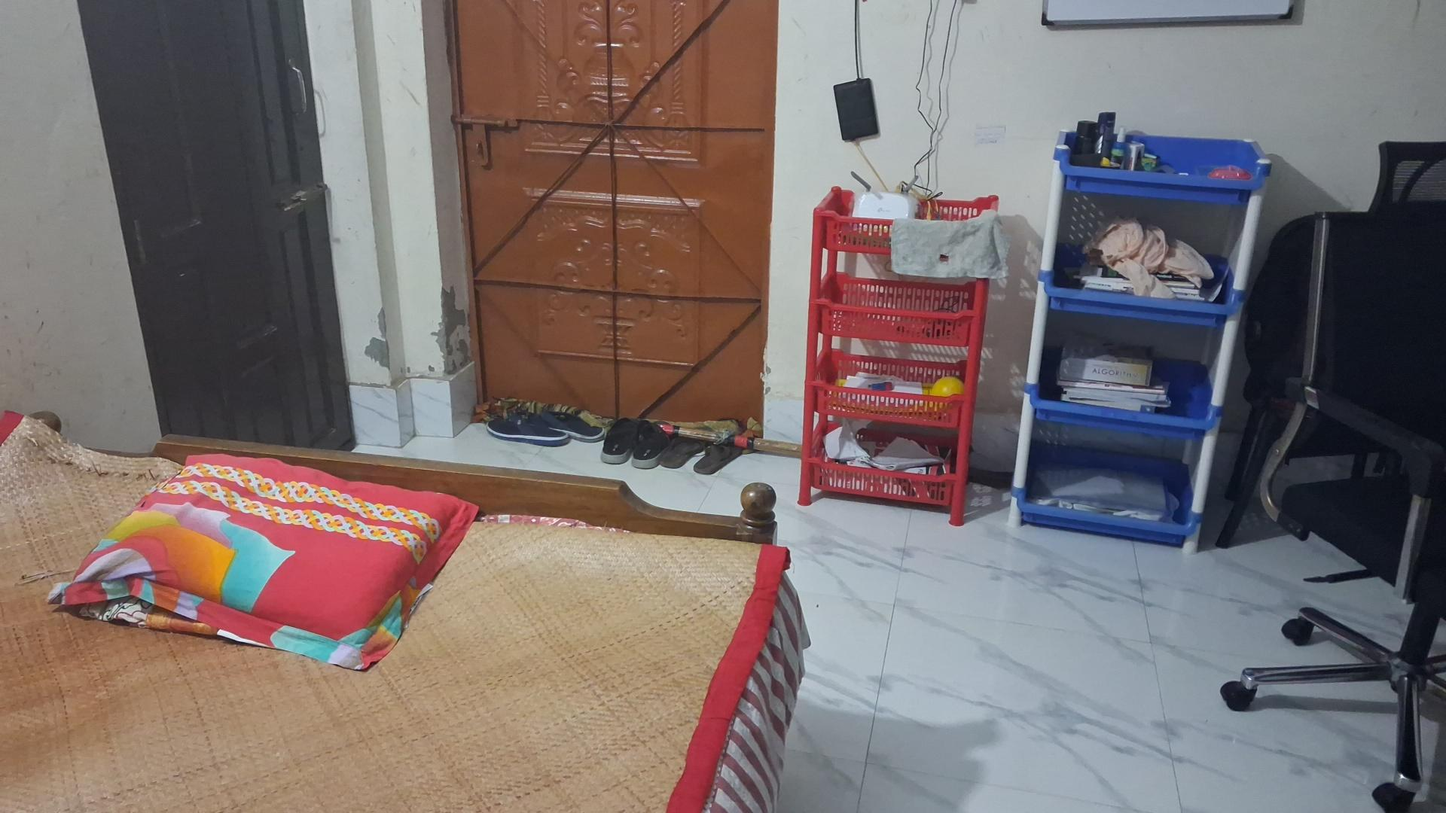Chair: (1228, 143, 1445, 798)
Door: (444, 3, 782, 443), (77, 5, 359, 451)
Footwear: (486, 408, 605, 447), (601, 415, 671, 468), (661, 438, 747, 473)
Pillow: (54, 452, 477, 665)
Rack: (1009, 116, 1271, 554), (800, 179, 992, 528)
